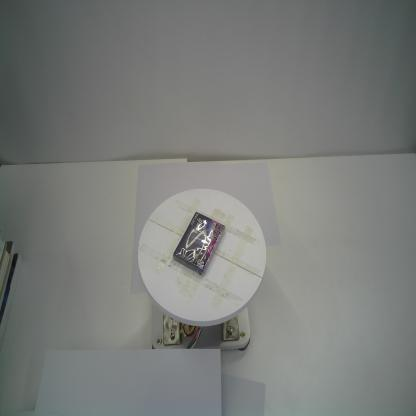Gum: (172, 210, 226, 276)
